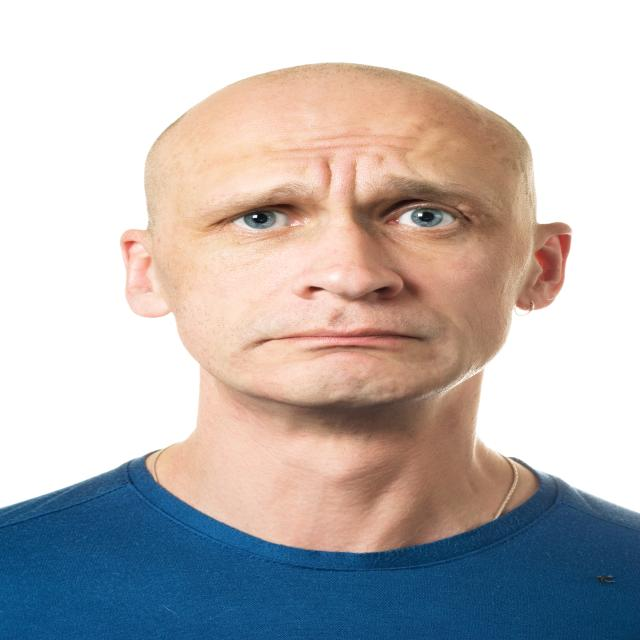no_helmet: (89, 48, 579, 252)
